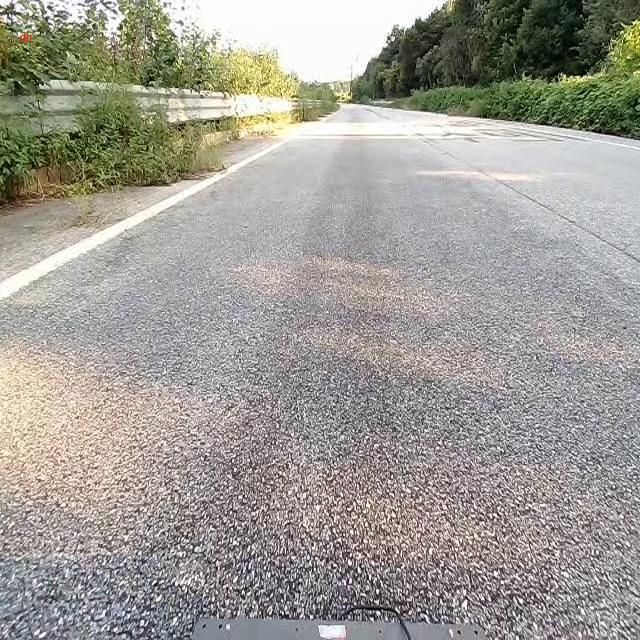Lane: (0, 135, 294, 301), (0, 141, 287, 301)
